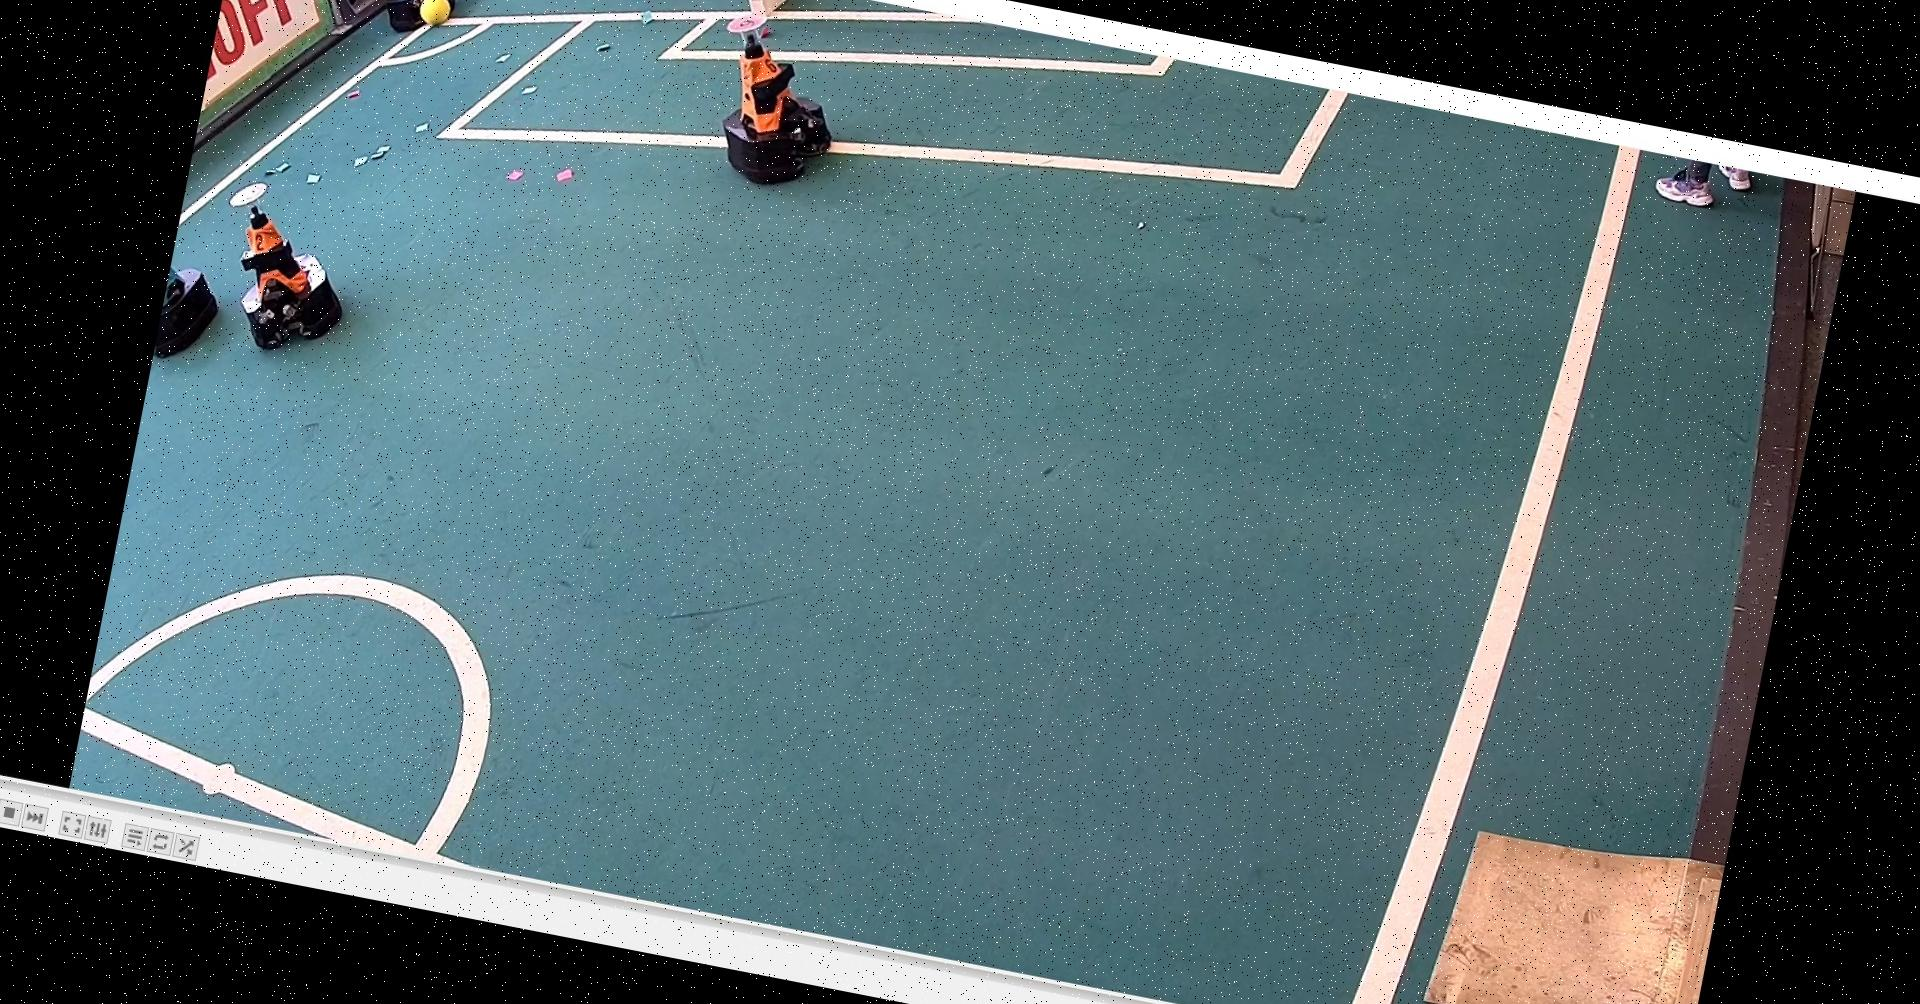Ball: (410, 0, 456, 28)
Team_Blue: (354, 0, 477, 41)
Team_Red: (696, 5, 863, 207), (203, 176, 373, 358)
